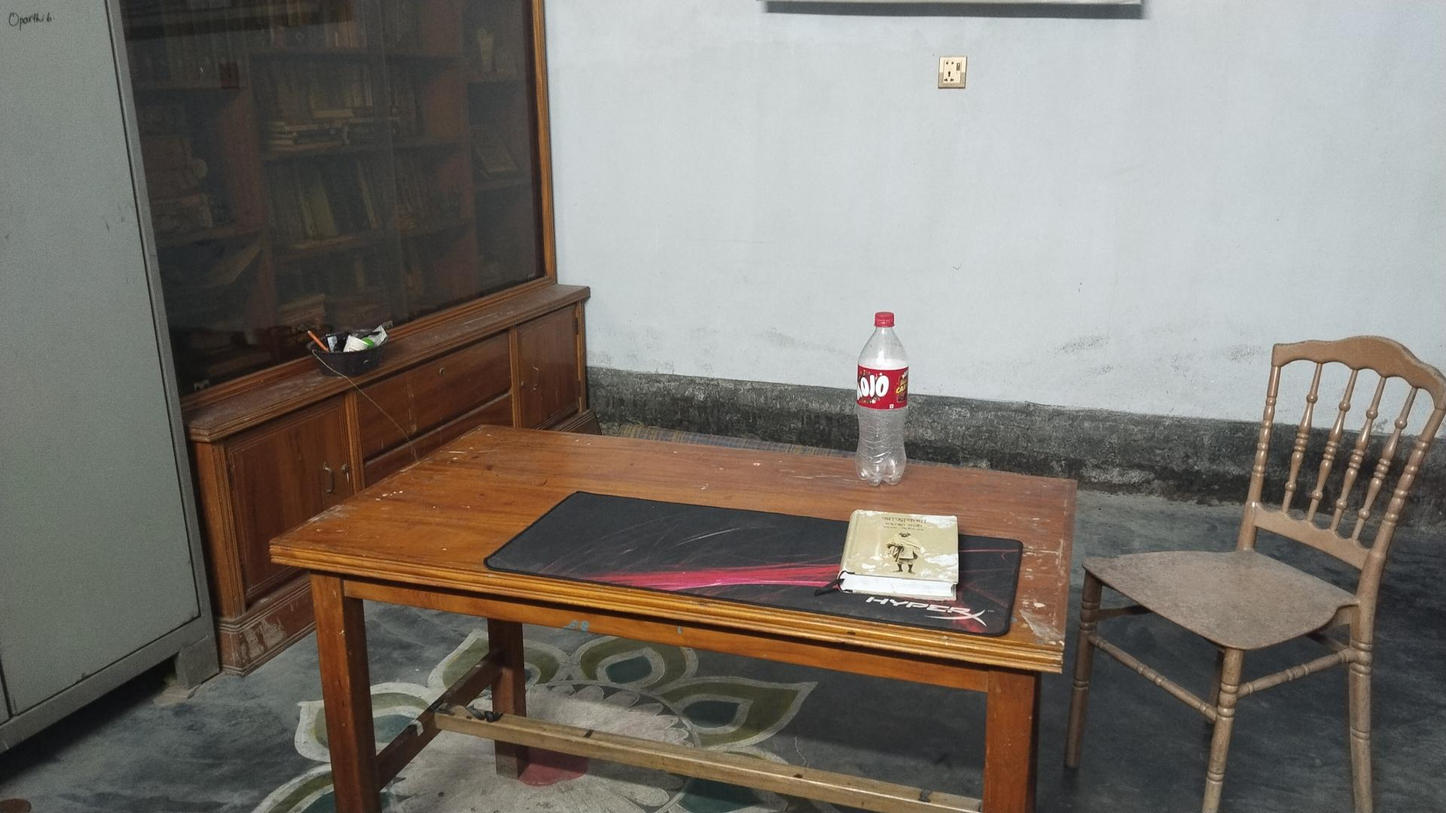Book: (842, 507, 962, 605)
Bottle: (857, 310, 908, 490)
Chair: (1092, 339, 1446, 813)
Table: (269, 412, 1073, 813)
